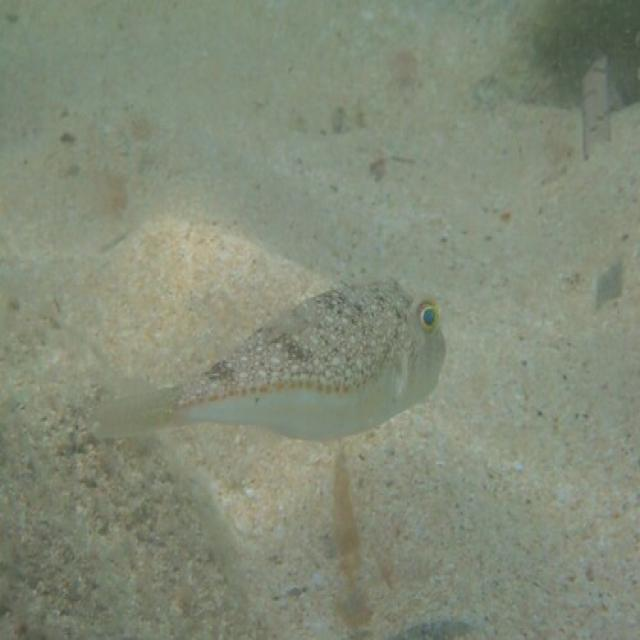Balik: (96, 280, 445, 440)
